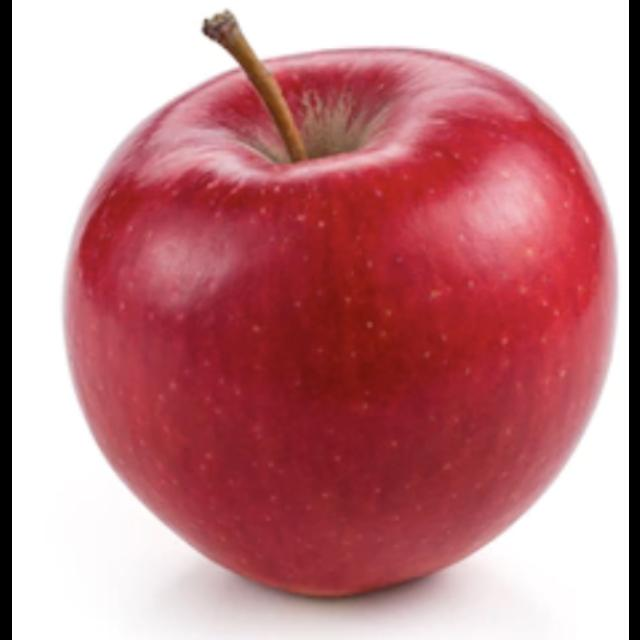Apel Segar: (66, 48, 622, 600)
